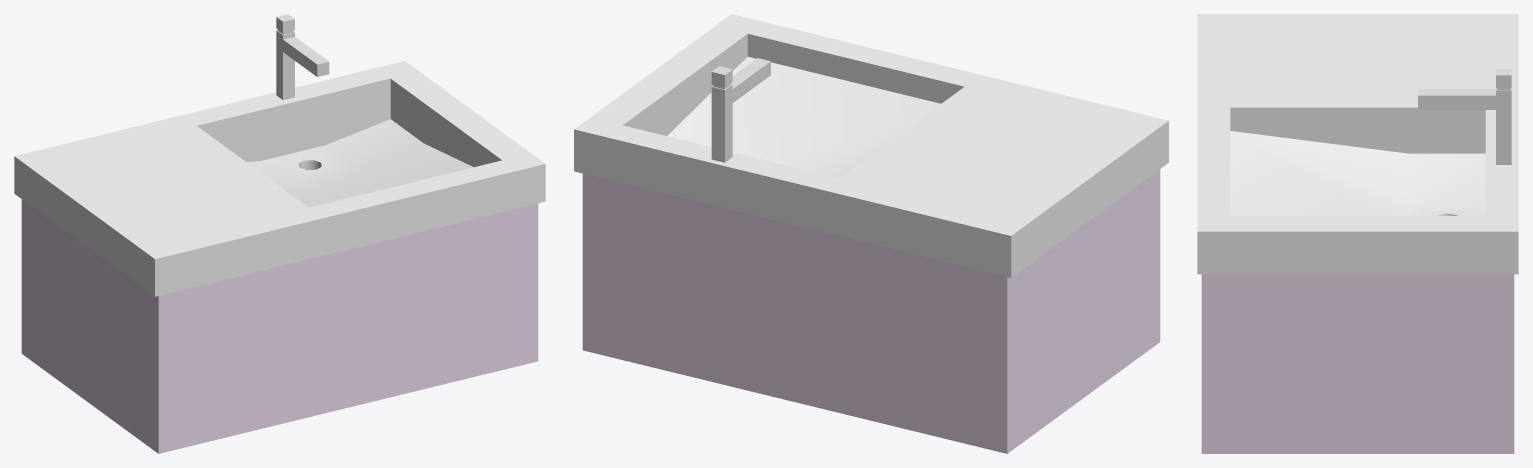
File: Bathroom sink.fbx
3 views of the same model, side by side, from view 1: azimuth 30°, elevation 25°; view 2: azimuth 150°, elevation 25°; view 3: azimuth 270°, elevation 25° (orthographic). The views are drawn at different scales.
Parts seen in each view (by area): view 1: Bathroom sink; view 2: Bathroom sink; view 3: Bathroom sink.
Boxes of the visible parts, x1=… form: Bathroom sink: x1=14, y1=14, x2=545, y2=453; Bathroom sink: x1=574, y1=14, x2=1168, y2=453; Bathroom sink: x1=1197, y1=14, x2=1518, y2=453.
Bounding box in the file's own units: 1.42 × 0.9571 × 0.8856.
